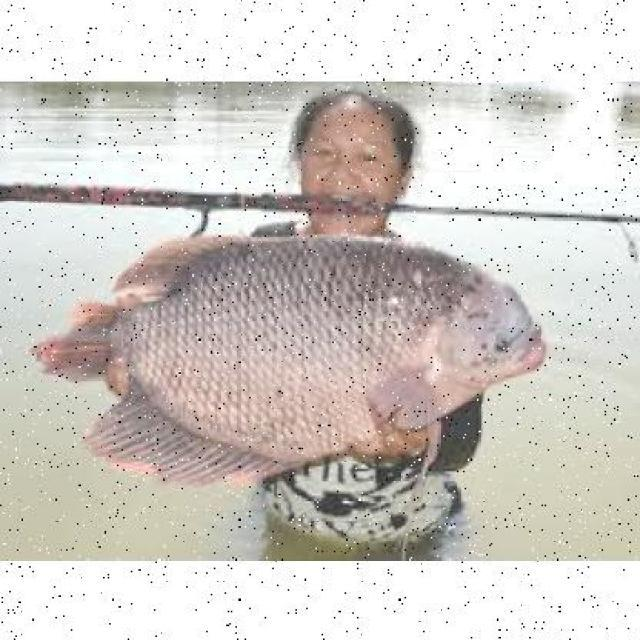gurame: (46, 232, 557, 494)
